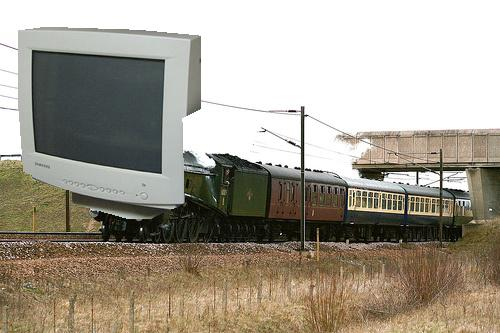tampered: (19, 28, 201, 219)
